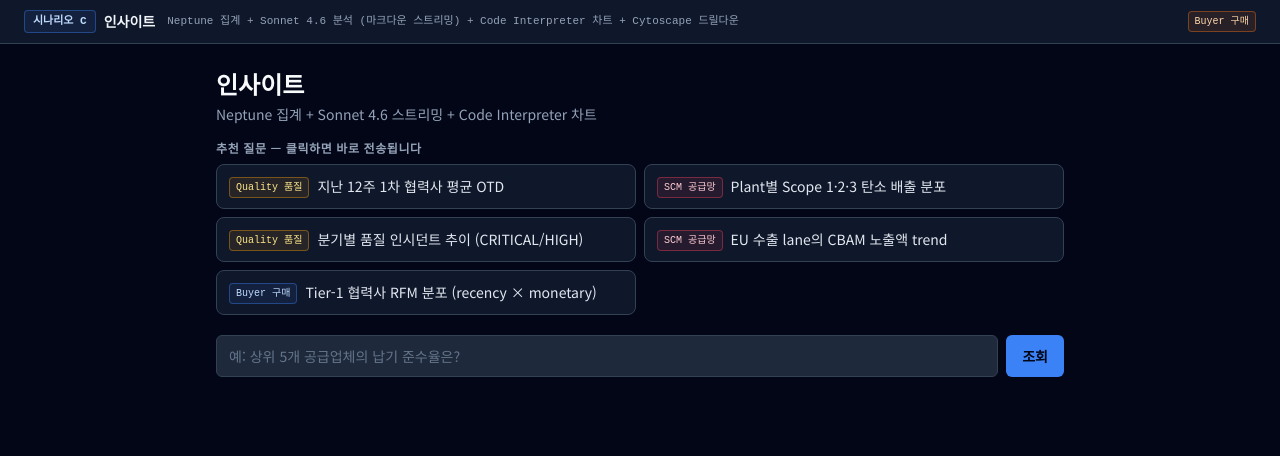
W4 — failed requests release the loading state and show an error › insights
The image size is (1280, 456).
In the field with placeholder "예: 상위 5개 공급업체의 납기 준수율은?": [607, 356] box [216,334,998,376], type "OTD"
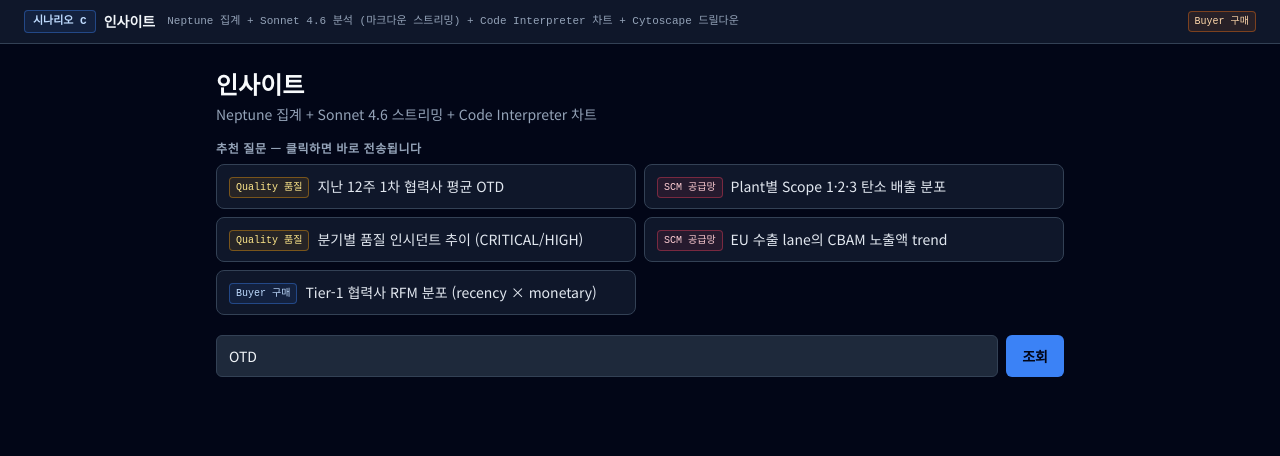
Click the button "조회": [1035, 356] box [1006,334,1064,376]
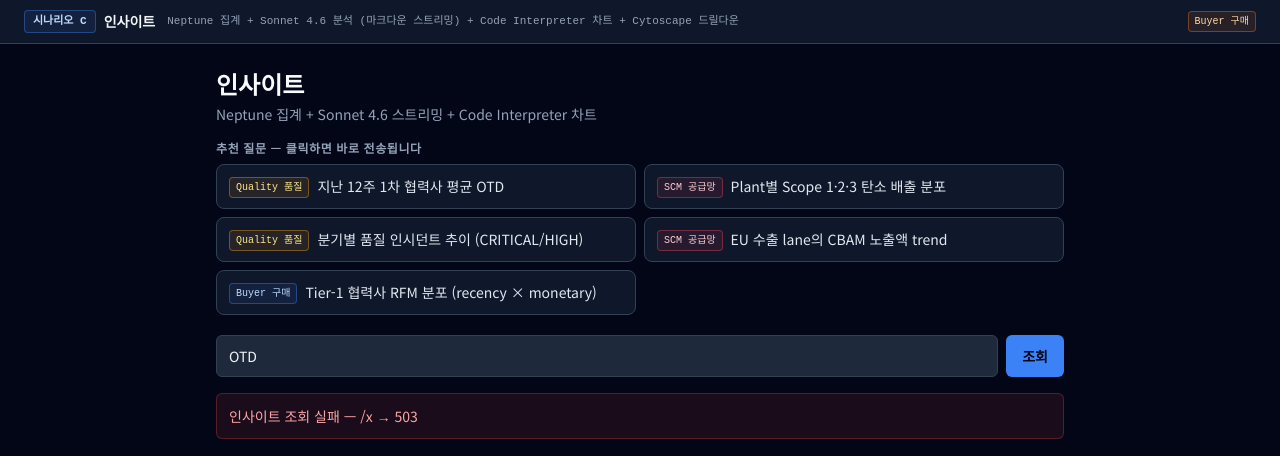
Now the message "인사이트 조회 실패 — /x → 503" is shown, box [216,392,1064,438]
